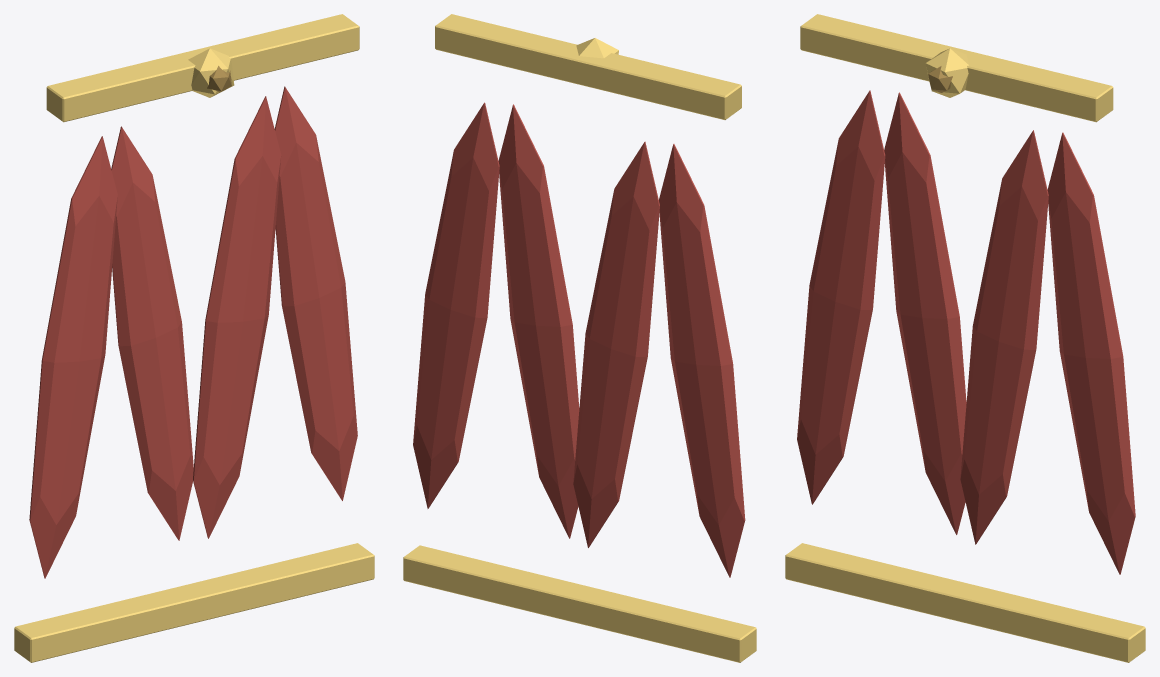
Rendered from cape_red.glb.
3 views of the same model, side by side, from view 1: azimuth 30°, elevation 25°; view 2: azimuth 150°, elevation 25°; view 3: azimuth 330°, elevation 25° (orthographic).
Visible parts, largest first — view 1: Cape; view 2: Cape; view 3: Cape.
Part boxes in pixels (bbox=[...]): Cape: bbox=[14, 14, 374, 662]; Cape: bbox=[403, 14, 756, 662]; Cape: bbox=[785, 14, 1145, 662].
Bounding box in the file's own units: 0.58 × 0.93 × 0.1155.
